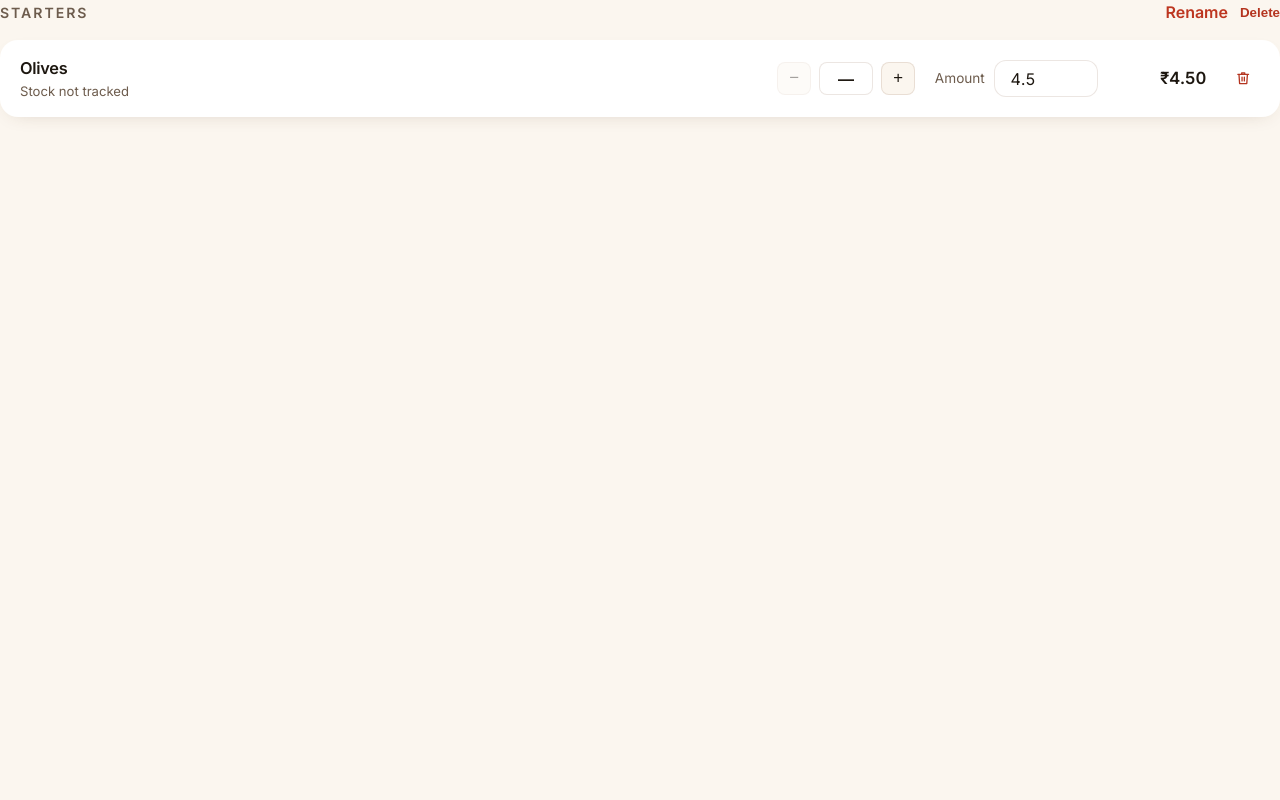
CategoryPanel deletion › asks for confirmation before deleting
The image size is (1280, 800).
Click the button with aria-label "Delete category Starters" at [1260, 12], box [1240,0,1279,24]
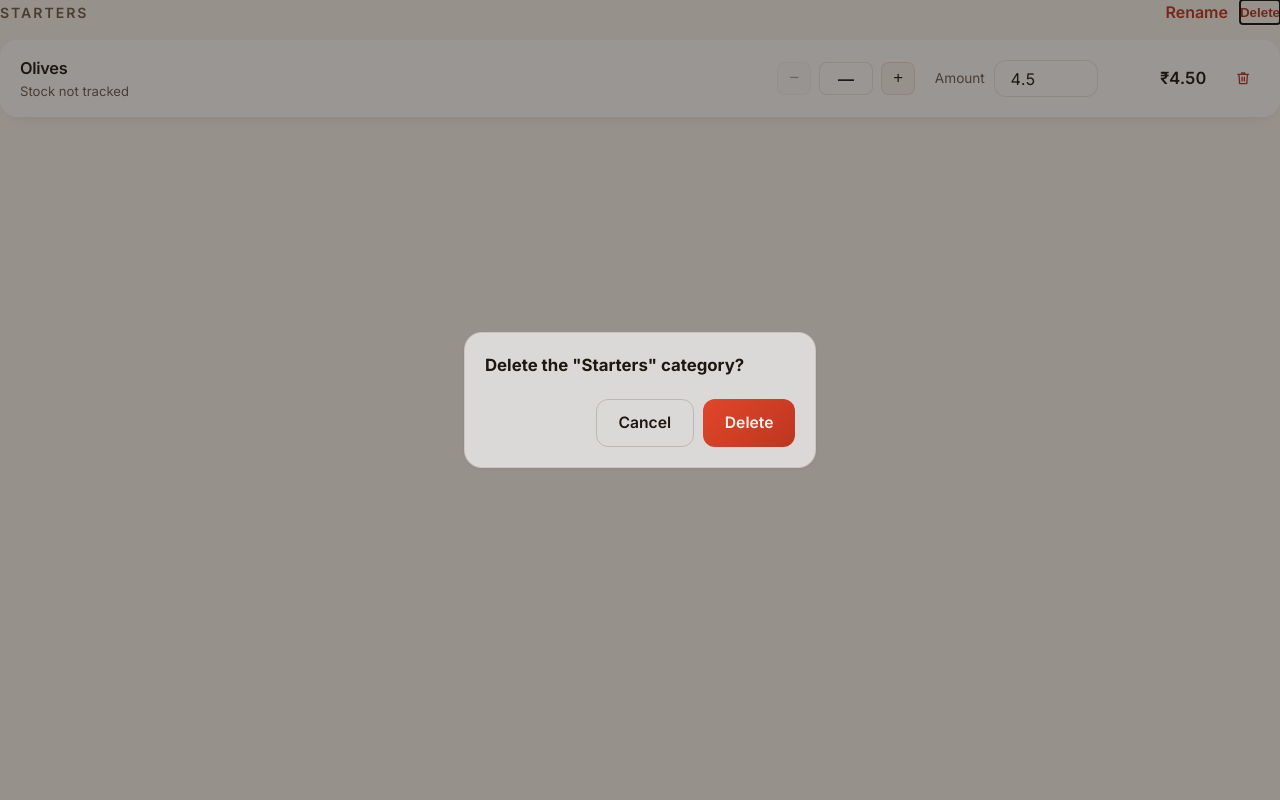
Expected: the dialog is shown, [464,332,816,468]
